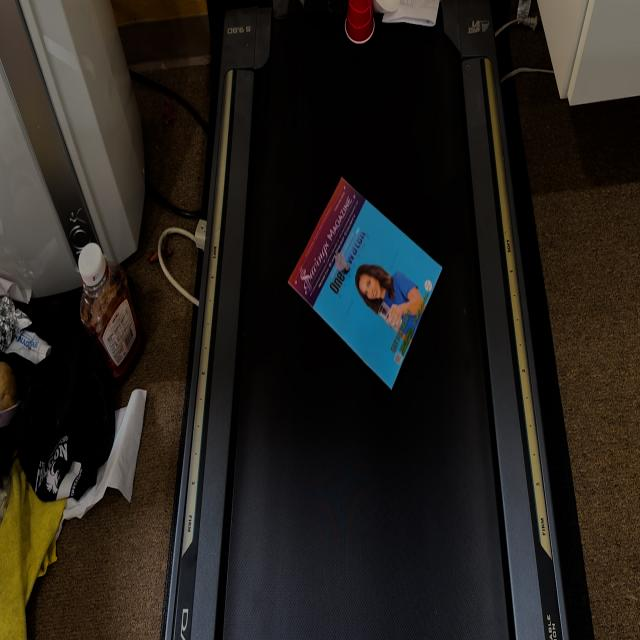Recycle: (331, 0, 384, 66)
Trash: (269, 155, 446, 430)
